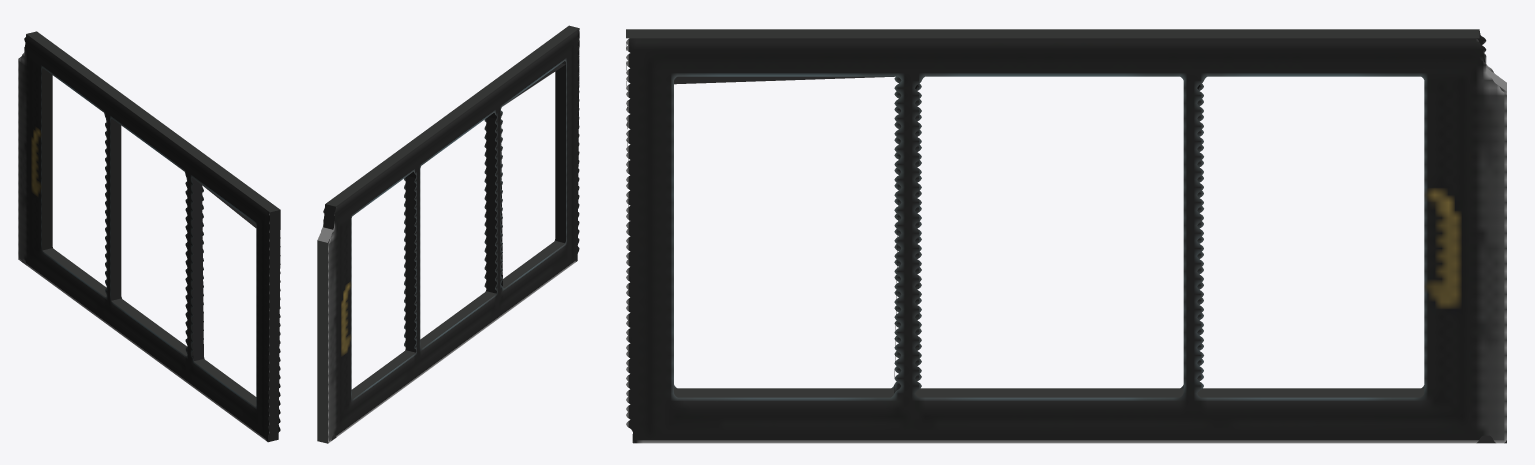
Rendered from pz_native_fixtures_windows_metal_16_frame.obj.
3 renders of one model, left to right at view 1: azimuth 30°, elevation 25°; view 2: azimuth 150°, elevation 25°; view 3: azimuth 270°, elevation 25°, orthographic. The views are drawn at different scales.
Parts seen in each view (by area): view 1: pz_native_fixtures_windows_metal_16_frame; view 2: pz_native_fixtures_windows_metal_16_frame; view 3: pz_native_fixtures_windows_metal_16_frame.
Part boxes in pixels (<box>): pz_native_fixtures_windows_metal_16_frame: <box>18,31,280,442</box>; pz_native_fixtures_windows_metal_16_frame: <box>317,25,579,443</box>; pz_native_fixtures_windows_metal_16_frame: <box>626,29,1506,443</box>.
Size of the model in its own units: 0.04 by 0.875 by 1.68.
Materials: 1 (1 with a texture image).
